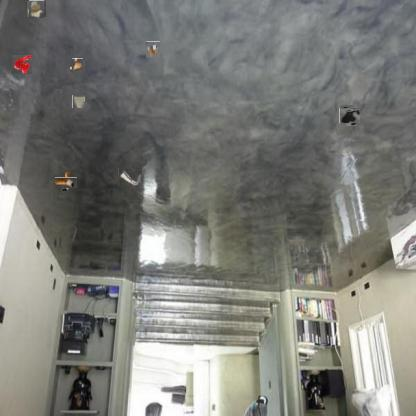dirty: (118, 168, 142, 186), (28, 0, 45, 18), (58, 174, 75, 191), (146, 41, 160, 58), (71, 59, 84, 73), (72, 95, 86, 108)
liquid: (12, 54, 32, 74), (340, 106, 359, 125)
